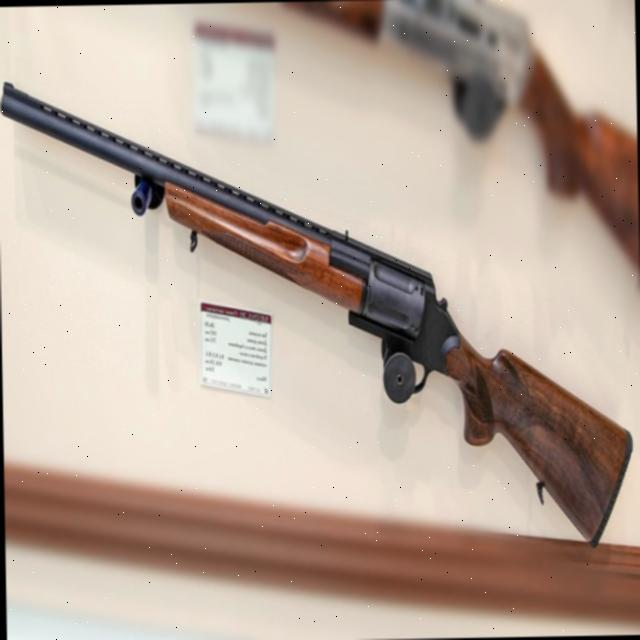Shotgun: (0, 42, 629, 548)
